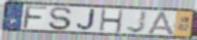A: (145, 10, 177, 37)
F: (21, 4, 49, 30)
H: (99, 8, 125, 34)
J: (125, 10, 149, 34), (76, 8, 97, 31)
S: (47, 6, 74, 31)
